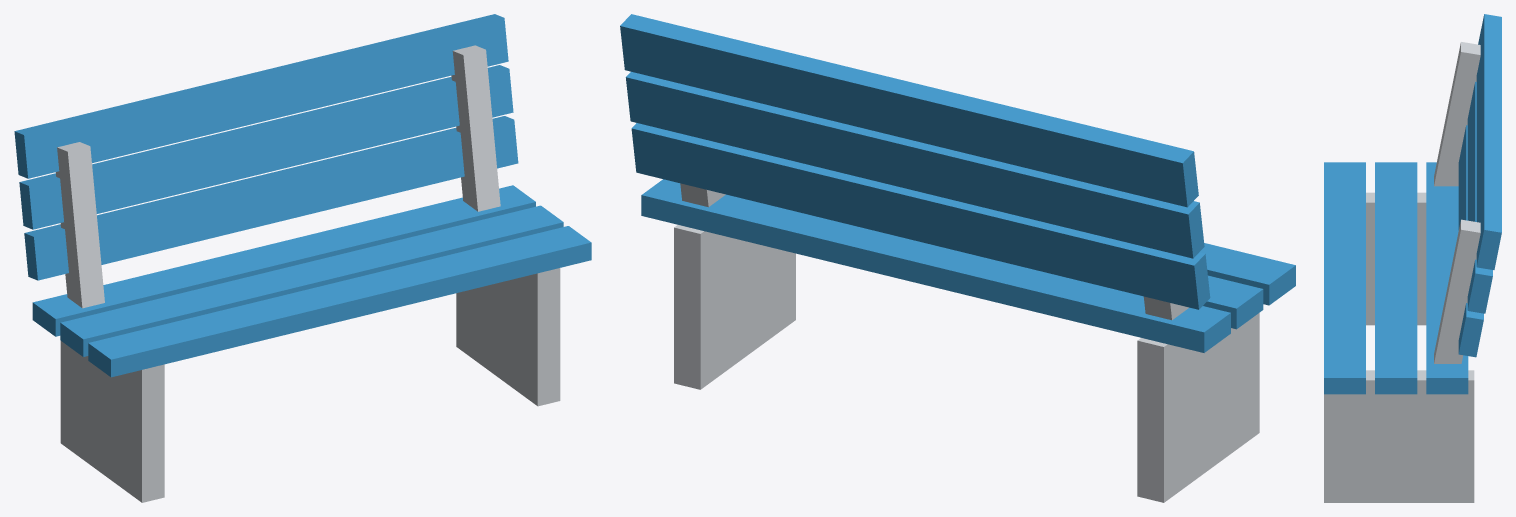
The model's file is go-kart-track-and-pit-lane-visitor-bench-45e5c84e__34364.glb.
3 renders of one model, left to right at view 1: azimuth 30°, elevation 25°; view 2: azimuth 150°, elevation 25°; view 3: azimuth 270°, elevation 25°, orthographic. The views are drawn at different scales.
Visible parts, largest first — view 1: visitor-bench-azure, visitor-bench-steel; view 2: visitor-bench-azure, visitor-bench-steel; view 3: visitor-bench-azure, visitor-bench-steel.
Boxes of the visible parts, x1,y1,x2,y2 form: visitor-bench-azure: (14, 14, 591, 377); visitor-bench-steel: (55, 45, 560, 502); visitor-bench-azure: (620, 14, 1295, 352); visitor-bench-steel: (674, 183, 1259, 502); visitor-bench-azure: (1324, 14, 1501, 394); visitor-bench-steel: (1324, 42, 1480, 502).
Size of the model in its own units: 1.7 by 1.05 by 0.5921.
